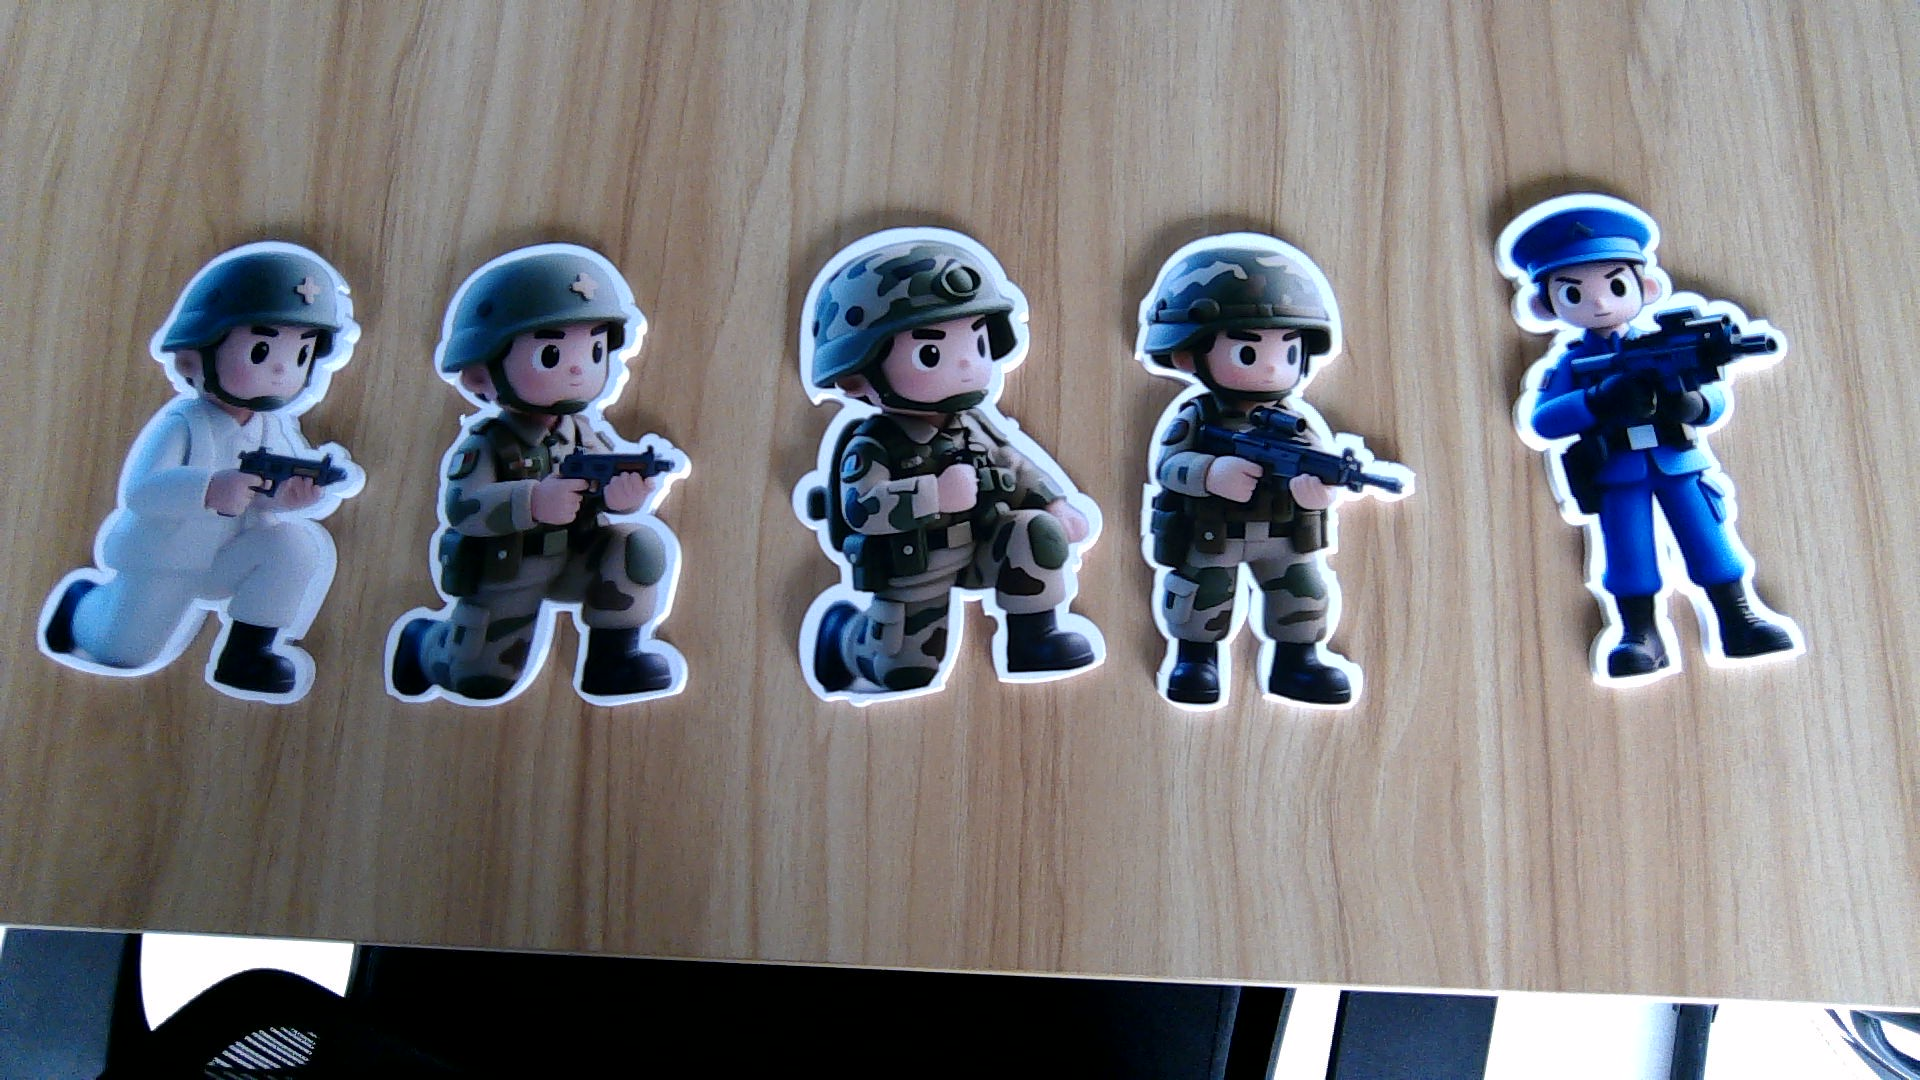人质: (29, 407, 368, 708)
友军: (380, 419, 692, 717), (789, 407, 1102, 702), (1142, 400, 1412, 711)
敌人2: (1502, 336, 1838, 684)
